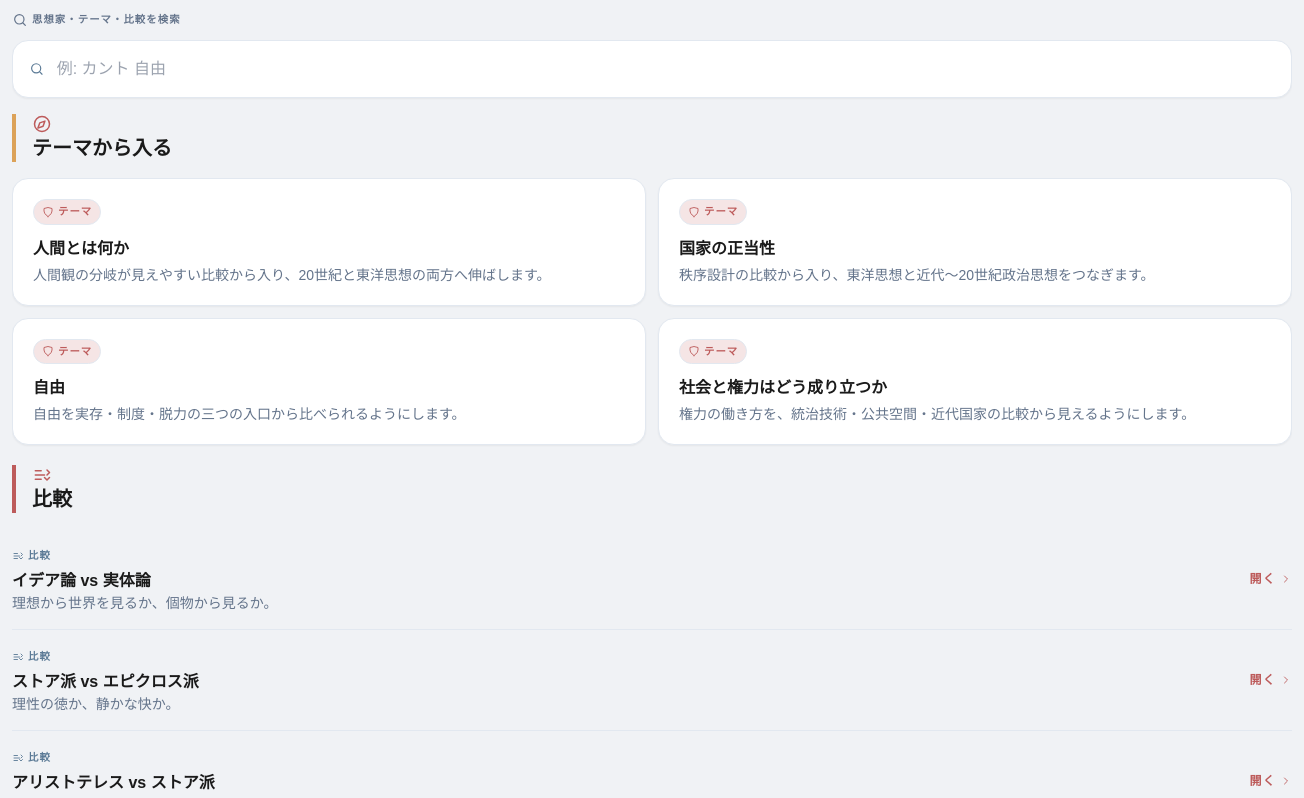
it: search page › shows pathway highlights for directed searches
The width and height of the screenshot is (1304, 798).
Type "power" into the search field. click: (666, 69)
box: [57,57,1275,81]
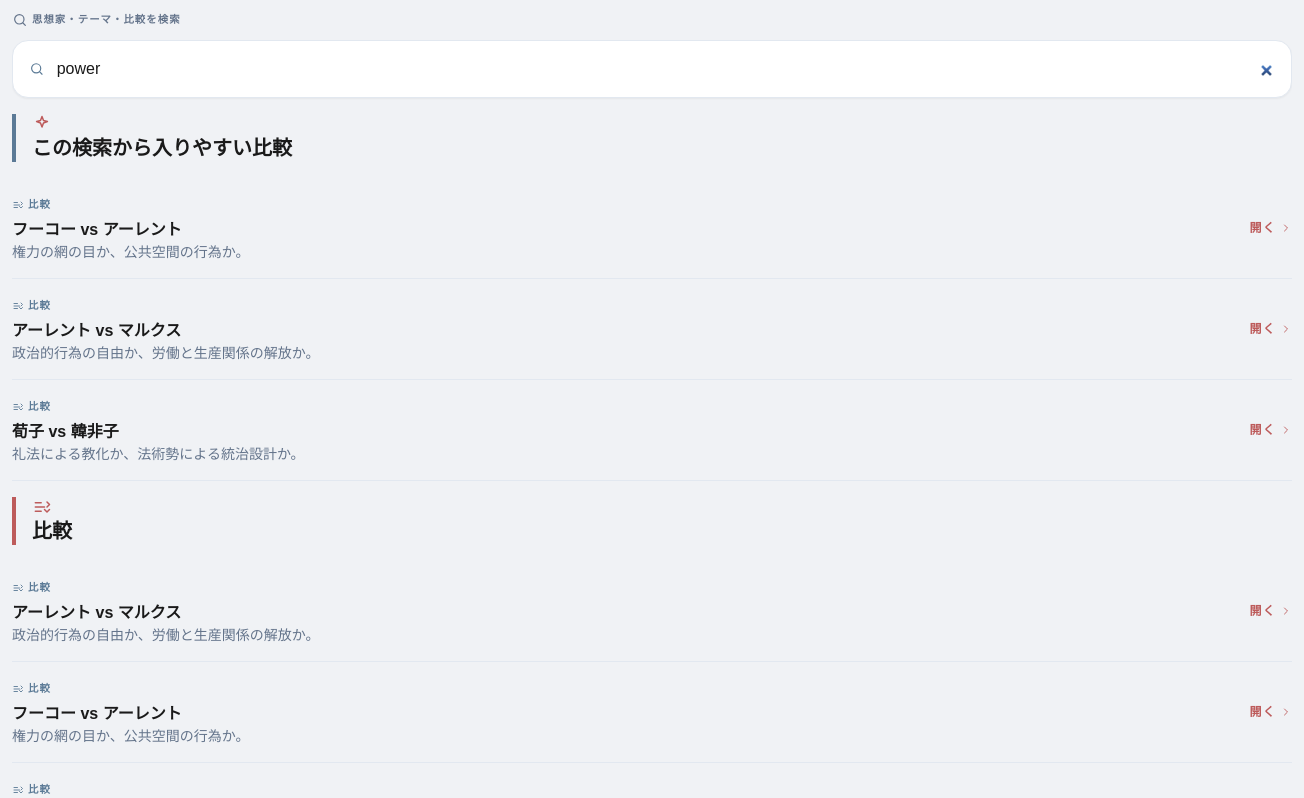
Check: the text "この検索から入りやすい比較" is shown, box [32,137,292,159]
Check: the text "フーコー vs アーレント" below "この検索から入りやすい比較" is shown, box [12,221,182,238]
